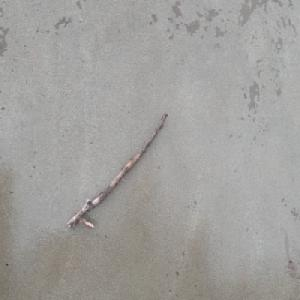Wood: (66, 111, 169, 232)
